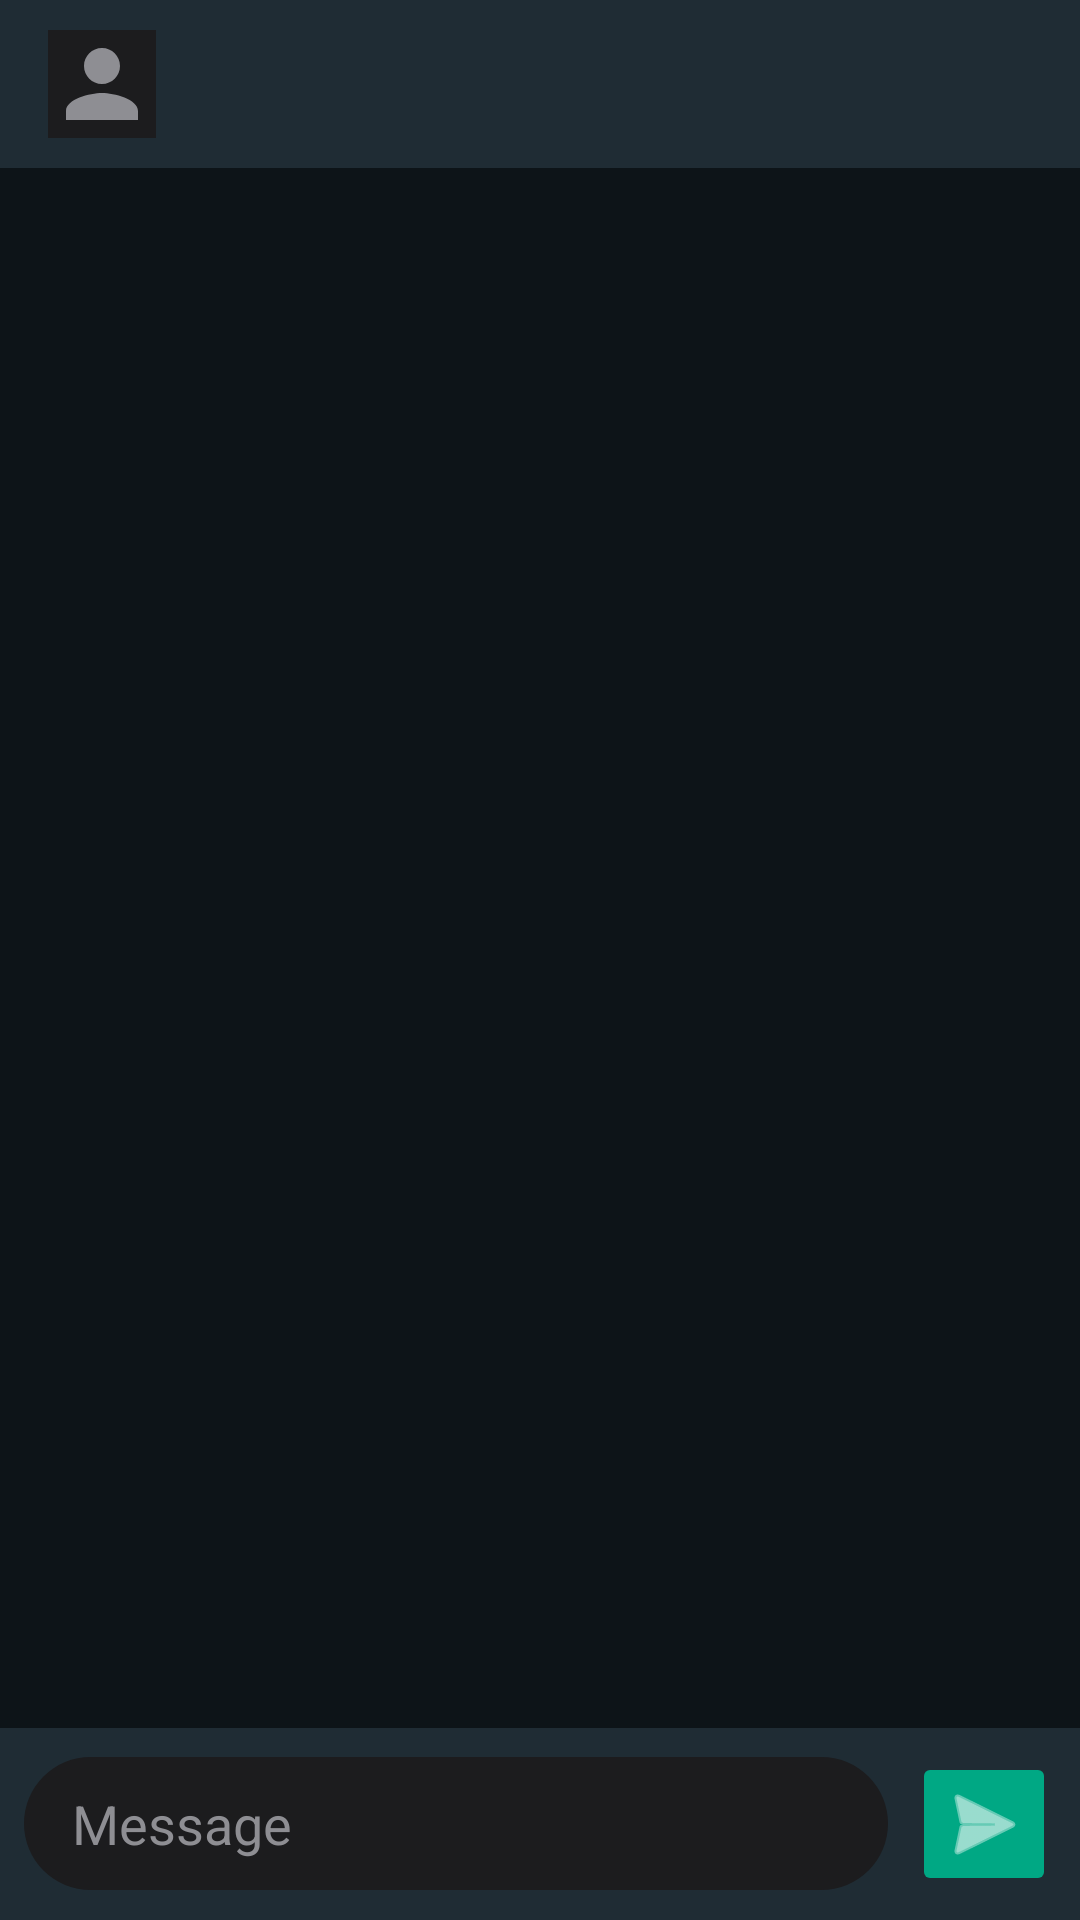

Screen size 1080px x 1920px. Icon name, then its center in pixels as [x,y]:
person: [102,84]
send: [984,1824]
